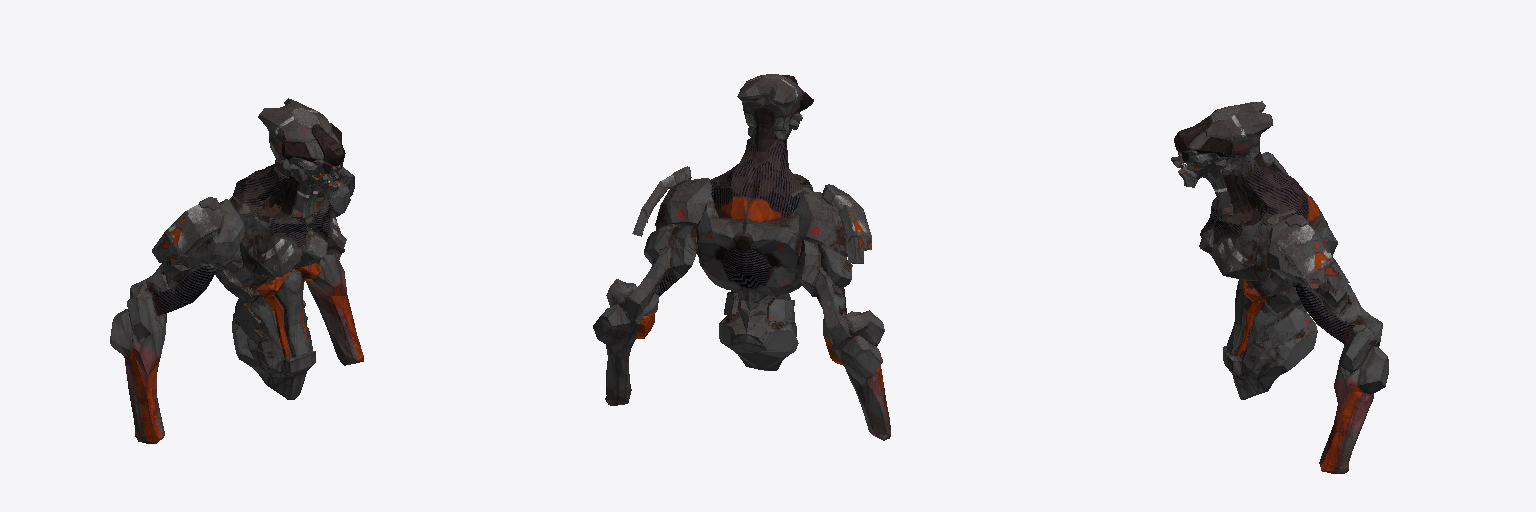
3 renders of one model, left to right at view 1: azimuth 30°, elevation 25°; view 2: azimuth 150°, elevation 25°; view 3: azimuth 270°, elevation 25°, orthographic.
Visible parts, largest first — view 1: g_arm01_low_meshId4_name, g_arm02_low_meshId3_name, g_body02_low_meshId2_name; view 2: g_arm01_low_meshId4_name, g_arm02_low_meshId3_name, g_body02_low_meshId2_name; view 3: g_arm01_low_meshId4_name, g_arm02_low_meshId3_name, g_body02_low_meshId2_name.
Boxes of the visible parts, box(x1,y1,x2,y2) form: g_arm01_low_meshId4_name: box(110, 182, 363, 443); g_arm02_low_meshId3_name: box(152, 166, 354, 264); g_body02_low_meshId2_name: box(235, 299, 307, 343); g_arm01_low_meshId4_name: box(593, 178, 890, 440); g_arm02_low_meshId3_name: box(632, 166, 871, 263); g_body02_low_meshId2_name: box(724, 292, 794, 323); g_arm01_low_meshId4_name: box(1267, 214, 1388, 473); g_arm02_low_meshId3_name: box(1261, 152, 1349, 290); g_body02_low_meshId2_name: box(1262, 307, 1307, 351).
Bounding box in the file's own units: 1.72 × 2 × 1.25.
1 materials, 1 textured.